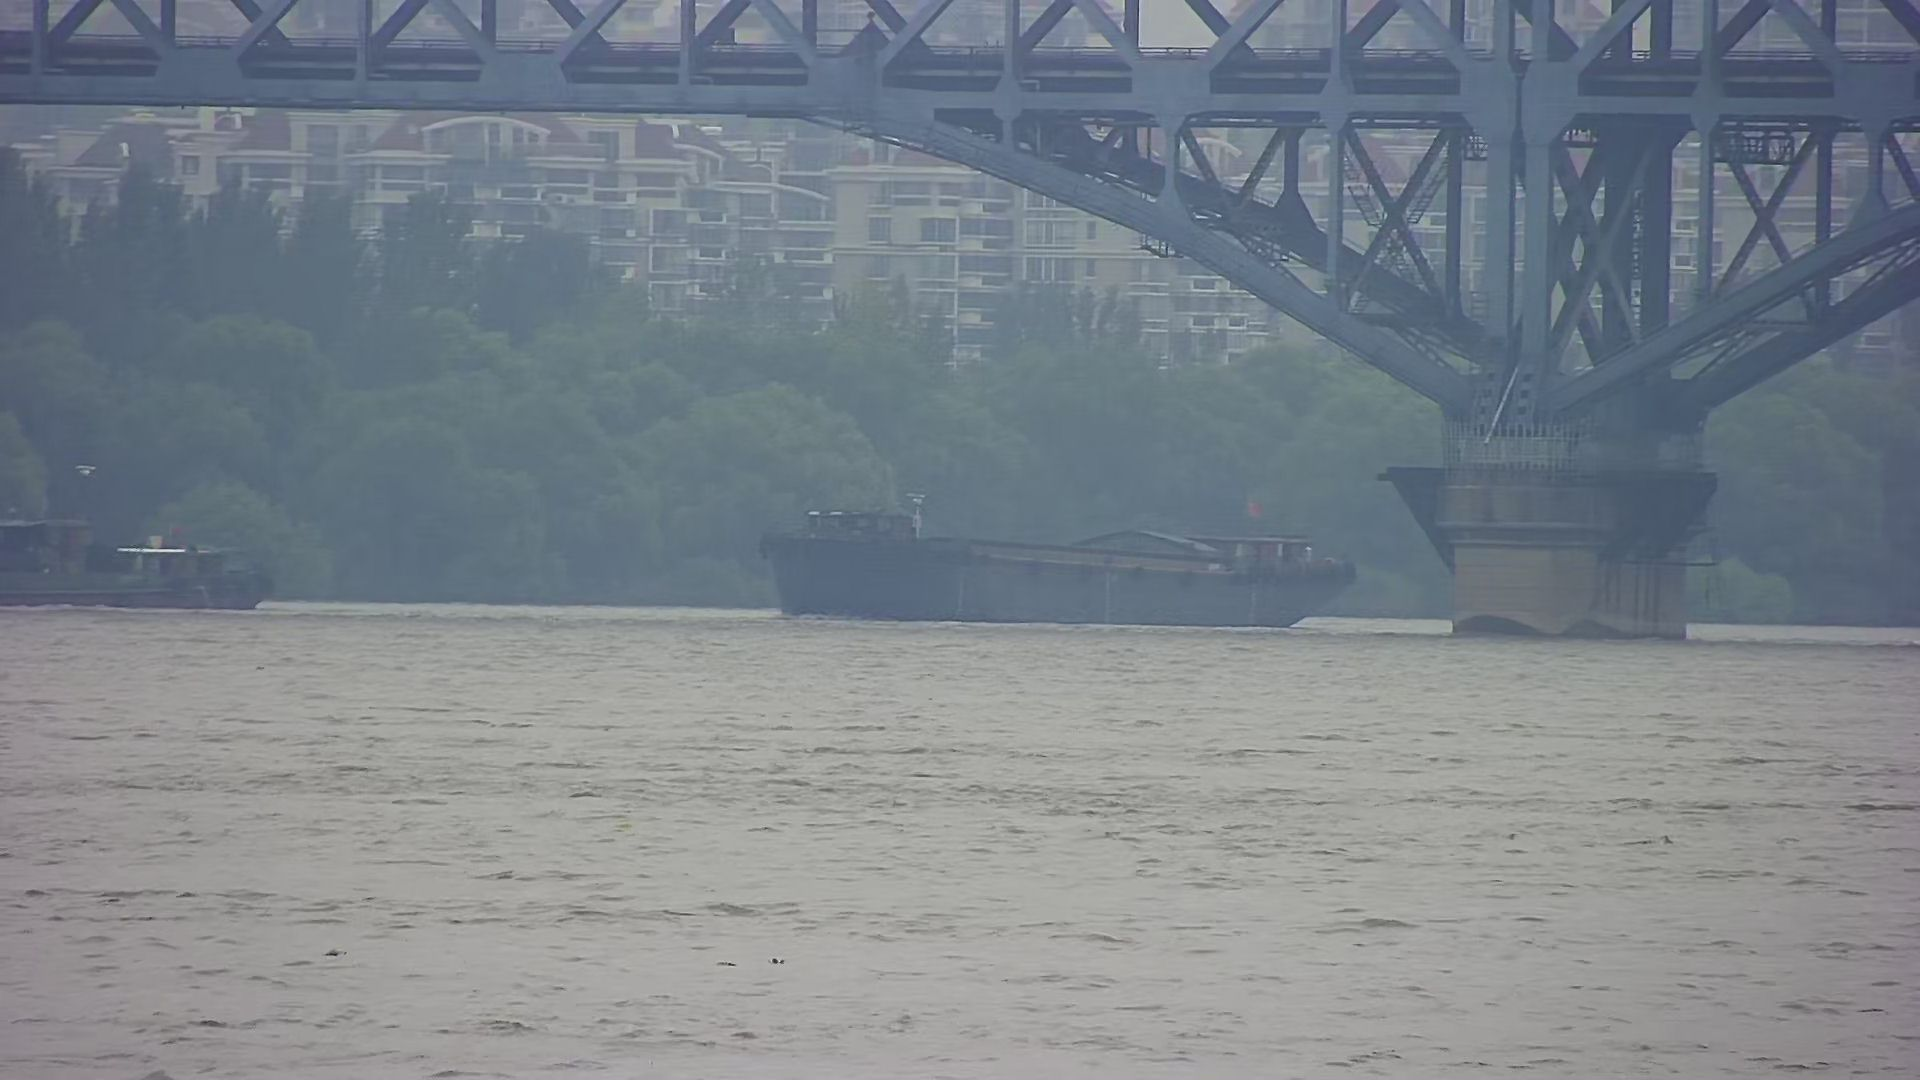bridge: (1, 1, 1913, 642)
ship: (737, 477, 1367, 644), (1, 460, 295, 624)
